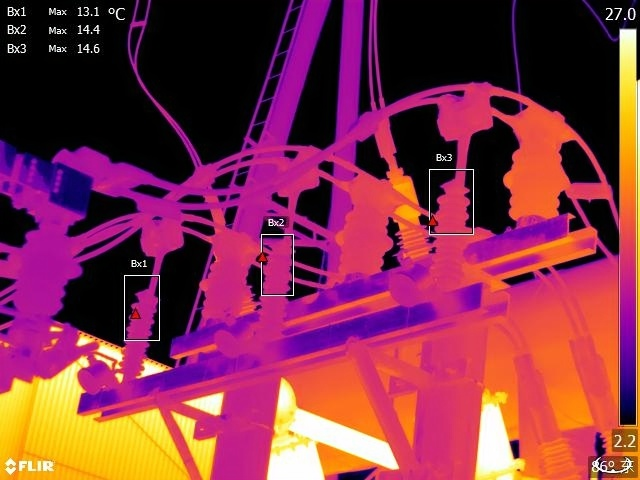post insulator: (10, 234, 80, 338), (506, 110, 567, 228), (340, 164, 397, 281), (197, 239, 254, 324), (432, 179, 471, 279), (255, 231, 304, 306), (118, 293, 161, 378)
switch: (1, 134, 100, 234)
transformer: (1, 318, 296, 480)
tube: (390, 163, 429, 262)
